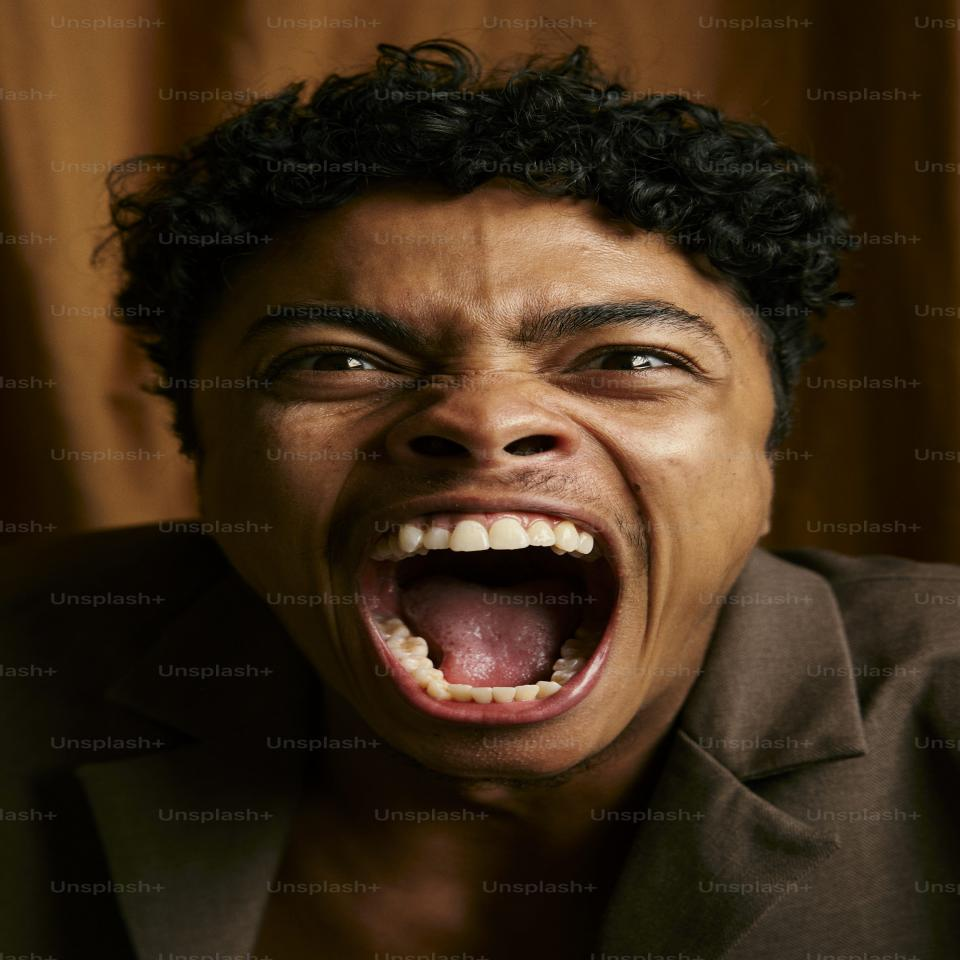Anger: (227, 180, 792, 781)
